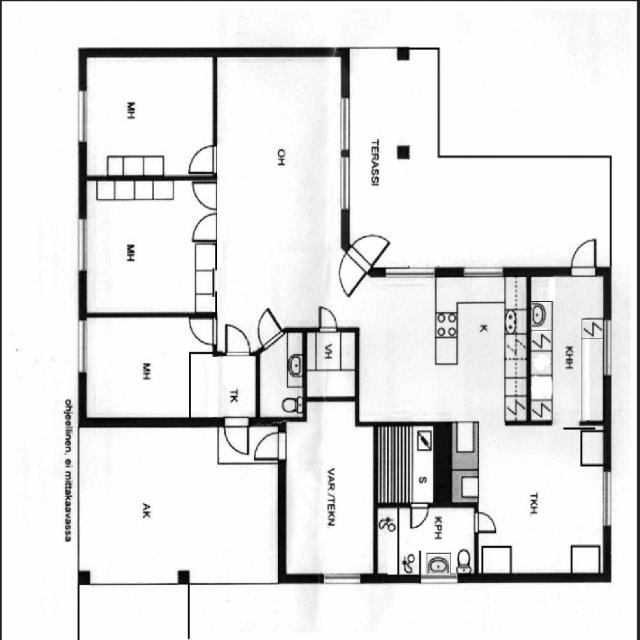door: (327, 244, 373, 297), (346, 219, 391, 272), (250, 308, 284, 349), (224, 416, 249, 454), (571, 239, 596, 276), (255, 430, 286, 458), (225, 323, 250, 356), (188, 144, 216, 173), (188, 183, 216, 211), (188, 212, 216, 240), (190, 319, 216, 345), (411, 502, 429, 527), (474, 512, 496, 532), (320, 308, 337, 332)
